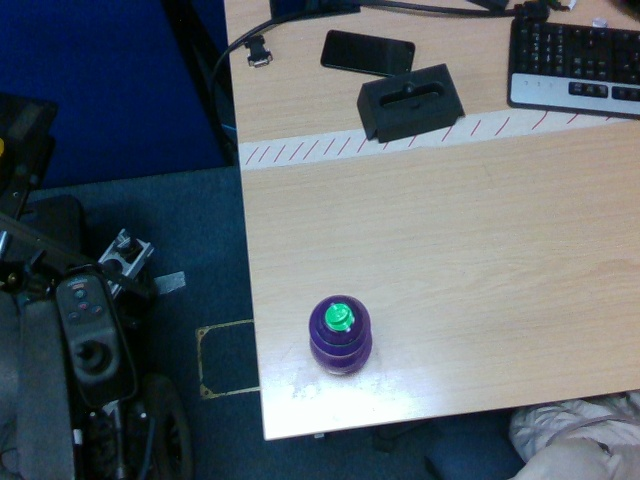book: (309, 295, 373, 375)
